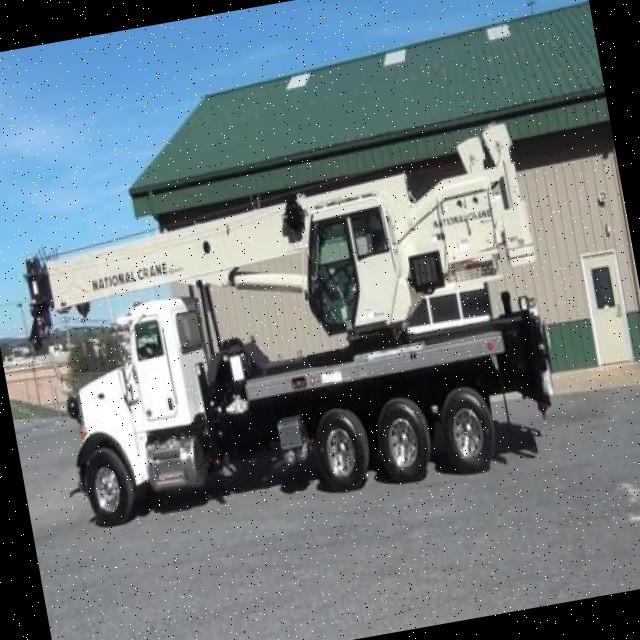Mobile Crane: (14, 120, 568, 538)
